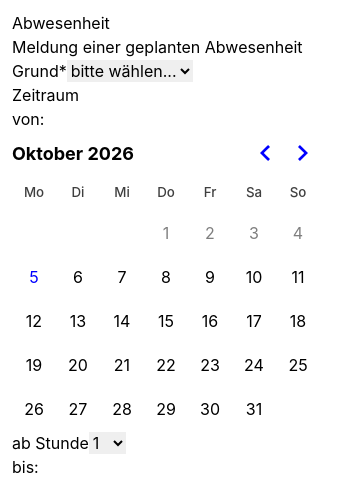
Test: StepOne - Absence Wizard Step 1 › Conditional Fields - Excursion › hides excursion classes field when reason changes from excursion
Select "Exkursion" in the dropdown labelled "Grund*": (130, 71) top-left (67, 60), bottom-right (193, 82)
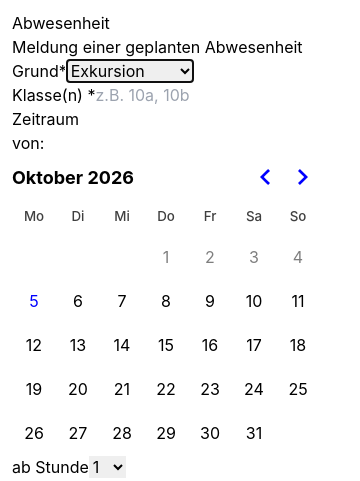
Result: the field labelled "Klasse(n) *" is shown at top-left (96, 83), bottom-right (344, 107)
Select "Krank" in the dropdown labelled "Grund*": (130, 71) top-left (67, 60), bottom-right (193, 82)
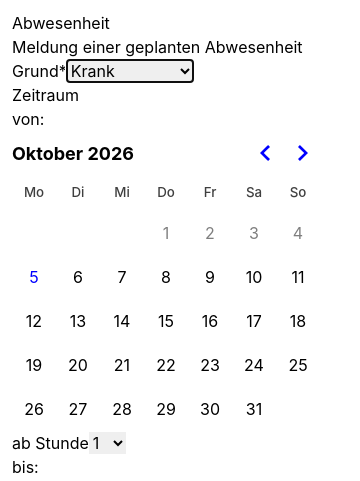
Result: the label labelled "Klasse(n)" is gone
